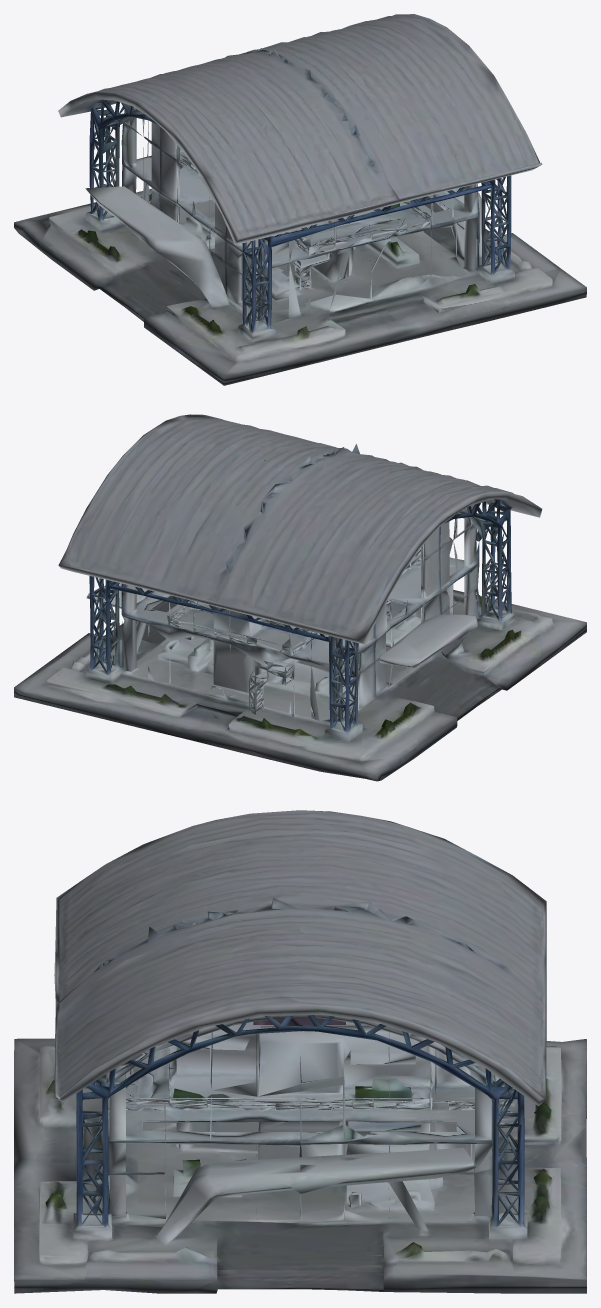
File: au_bld_careers_hangar.glb
The picture shows the model from 3 angles, top to bottom: view 1: azimuth 30°, elevation 25°; view 2: azimuth 150°, elevation 25°; view 3: azimuth 270°, elevation 25°; orthographic projection. The views are drawn at different scales.
Parts seen in each view (by area): view 1: tripo_node_d3308b7f-94fc-4861-bc8f-9a44110fdccb; view 2: tripo_node_d3308b7f-94fc-4861-bc8f-9a44110fdccb; view 3: tripo_node_d3308b7f-94fc-4861-bc8f-9a44110fdccb.
Part boxes in pixels (bbox=[...]): tripo_node_d3308b7f-94fc-4861-bc8f-9a44110fdccb: bbox=[14, 14, 586, 385]; tripo_node_d3308b7f-94fc-4861-bc8f-9a44110fdccb: bbox=[14, 414, 586, 781]; tripo_node_d3308b7f-94fc-4861-bc8f-9a44110fdccb: bbox=[14, 810, 586, 1293].
Size of the model in its own units: 0.9769 by 0.5283 by 0.9795.
1 material, 1 textured.
